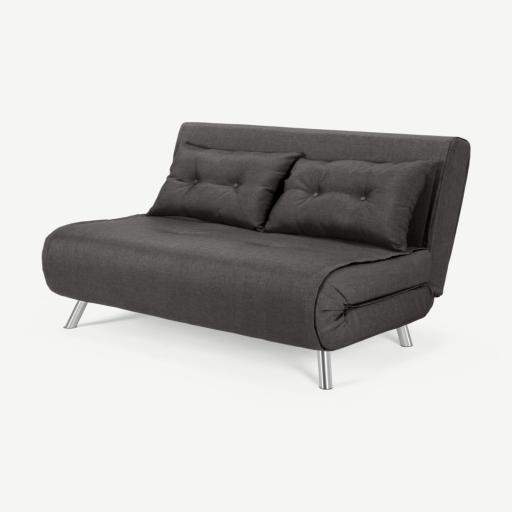back_cushion: (155, 151, 419, 259)
legs: (314, 358, 323, 390), (73, 309, 83, 334), (400, 328, 408, 347)
one-seater: (42, 123, 470, 389)
seat_cushion: (42, 225, 430, 357)
